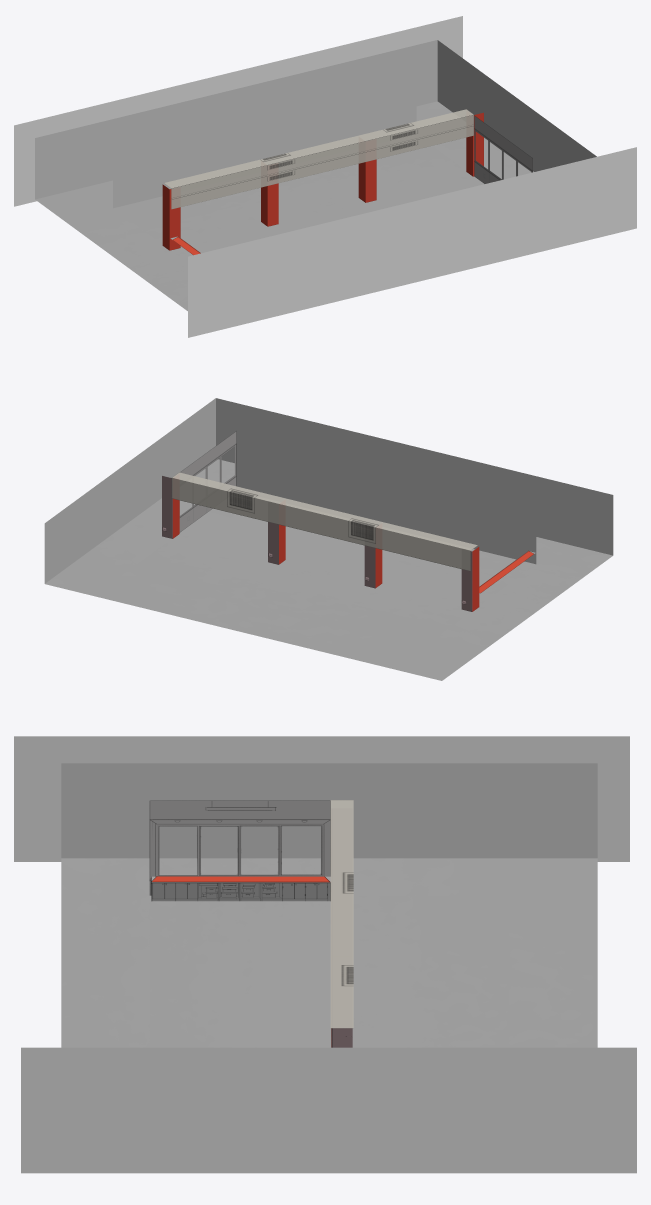
Rendered from 60_5thAveLab2.gltf.
3 renders of one model, top to bottom at view 1: azimuth 30°, elevation 25°; view 2: azimuth 150°, elevation 25°; view 3: azimuth 270°, elevation 25°, orthographic. The views are drawn at different scales.
Parts seen in each view (by area): view 1: Plane.003, Wall_FrontInner, Wall_FrontOuter, Floor_InnerFront, Plane.002, Hangover, Floor_Outer, Wall_RightOuter, Floor_InnerBack, Wall_RightInner, Column4, Column2 (+2 smaller); view 2: Floor_Outer, Wall_BackInner1, Floor_InnerFront, Wall_BackOuter, Wall_RightOuter, Floor_InnerBack, Hangover, Wall_RightInner, Column4, Column3, Column1, Column2; view 3: Plane.001, Wall_LeftOuter, Floor_Outer, Floor_InnerBack, Plane, Floor_InnerFront, Wall_LeftInner, Hangover, Cabinet.
Boxes of the visible parts, box(x1,y1,x2,y2) form: Plane.003: box(188, 147, 636, 337); Wall_FrontInner: box(113, 73, 416, 208); Wall_FrontOuter: box(35, 40, 437, 199); Floor_InnerFront: box(113, 146, 472, 247); Plane.002: box(14, 16, 462, 206); Hangover: box(164, 109, 473, 209); Floor_Outer: box(35, 101, 533, 310); Wall_RightOuter: box(437, 40, 596, 171); Floor_InnerBack: box(171, 176, 484, 262); Wall_RightInner: box(474, 115, 532, 183); Column4: box(162, 184, 180, 250); Column2: box(358, 159, 376, 202); Floor_Outer: box(45, 459, 612, 680); Wall_BackInner1: box(236, 430, 536, 564); Floor_InnerFront: box(122, 534, 470, 648); Wall_BackOuter: box(216, 398, 613, 555); Wall_RightOuter: box(44, 398, 215, 583); Floor_InnerBack: box(179, 508, 535, 605); Hangover: box(171, 472, 477, 571); Wall_RightInner: box(179, 431, 236, 532); Column4: box(461, 547, 479, 611); Column3: box(162, 476, 179, 538); Column1: box(364, 545, 382, 588); Column2: box(268, 522, 285, 564); Plane.001: box(21, 1047, 636, 1173); Wall_LeftOuter: box(61, 763, 597, 858); Floor_Outer: box(61, 858, 597, 1047); Floor_InnerBack: box(149, 895, 331, 1047); Plane: box(14, 736, 629, 861); Floor_InnerFront: box(352, 895, 509, 1047); Wall_LeftInner: box(149, 800, 330, 895); Hangover: box(330, 800, 353, 1028); Cabinet: box(151, 876, 330, 901).
Size of the model in its own units: 22.05 by 3.78 by 16.99.
